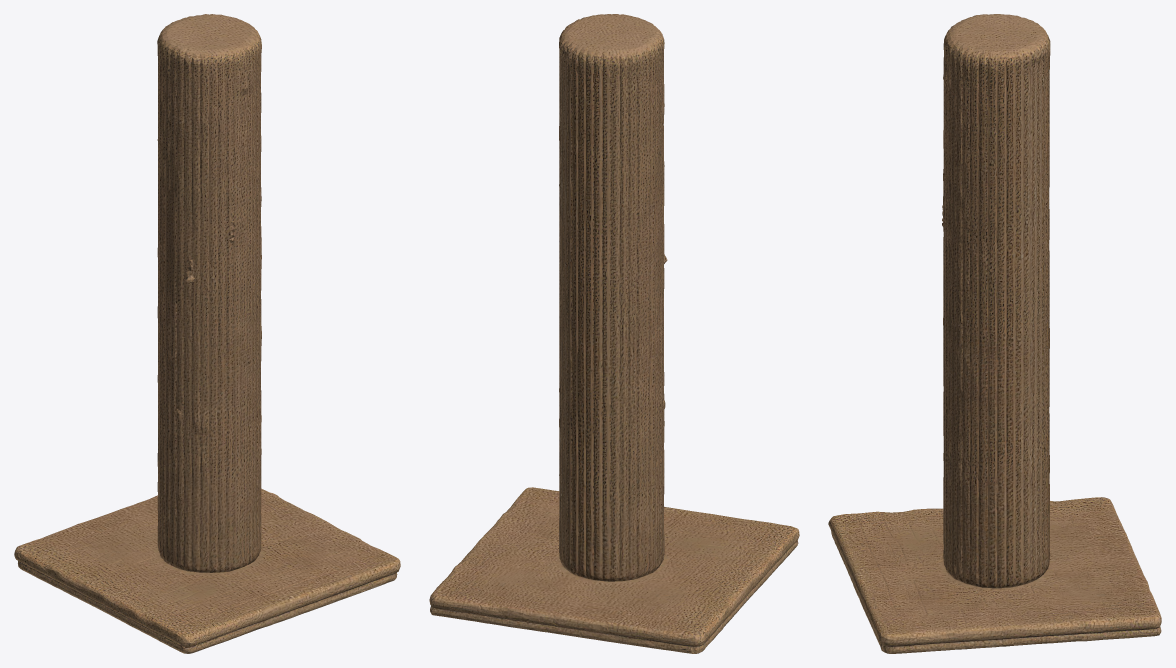
File: ktochka_2.glb
3 renders of one model, left to right at view 1: azimuth 30°, elevation 25°; view 2: azimuth 150°, elevation 25°; view 3: azimuth 270°, elevation 25°, orthographic. The views are drawn at different scales.
Visible parts, largest first — view 1: tripo_node_64ccb9a5-af48-46f5-a402-7f617c5399cc; view 2: tripo_node_64ccb9a5-af48-46f5-a402-7f617c5399cc; view 3: tripo_node_64ccb9a5-af48-46f5-a402-7f617c5399cc.
Boxes of the visible parts, box(x1,y1,x2,y2) form: tripo_node_64ccb9a5-af48-46f5-a402-7f617c5399cc: box(14, 14, 400, 653); tripo_node_64ccb9a5-af48-46f5-a402-7f617c5399cc: box(429, 14, 799, 653); tripo_node_64ccb9a5-af48-46f5-a402-7f617c5399cc: box(828, 14, 1161, 653).
Bounding box in the file's own units: 0.5443 × 1 × 0.5449.
1 material, 1 textured.
